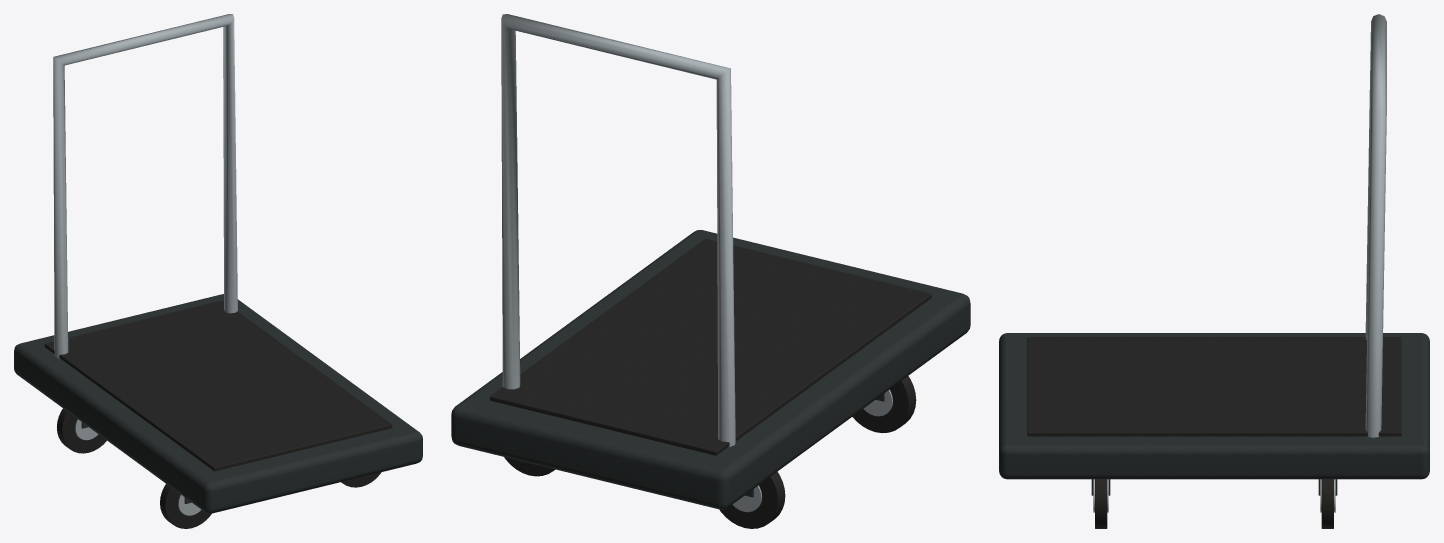
Rendered from platform-utility-cart.glb.
3 renders of one model, left to right at view 1: azimuth 30°, elevation 25°; view 2: azimuth 150°, elevation 25°; view 3: azimuth 270°, elevation 25°, orthographic. The views are drawn at different scales.
Parts seen in each view (by area): view 1: Load deck traction surface, Platform cart deck, Folding cart push handle, Rubber caster wheel, Rubber caster wheel.001; view 2: Load deck traction surface, Platform cart deck, Folding cart push handle, Rubber caster wheel.001, Rubber caster wheel; view 3: Load deck traction surface, Platform cart deck, Folding cart push handle, Rubber caster wheel.002, Rubber caster wheel.003.
Boxes of the visible parts, <box> form: Load deck traction surface: <box>44,300,392,471</box>; Platform cart deck: <box>14,294,422,513</box>; Folding cart push handle: <box>53,14,237,358</box>; Rubber caster wheel: <box>160,484,211,528</box>; Rubber caster wheel.001: <box>57,408,106,453</box>; Load deck traction surface: <box>490,238,931,455</box>; Platform cart deck: <box>451,230,970,509</box>; Folding cart push handle: <box>501,14,735,446</box>; Rubber caster wheel.001: <box>719,471,785,528</box>; Rubber caster wheel: <box>852,376,916,433</box>; Load deck traction surface: <box>1027,337,1401,436</box>; Platform cart deck: <box>999,333,1429,479</box>; Folding cart push handle: <box>1365,14,1386,437</box>; Rubber caster wheel.002: <box>1095,479,1107,528</box>; Rubber caster wheel.003: <box>1321,479,1333,528</box>.
Size of the model in its own units: 0.504 by 0.8099 by 0.76.
3 materials, 3 textured.
